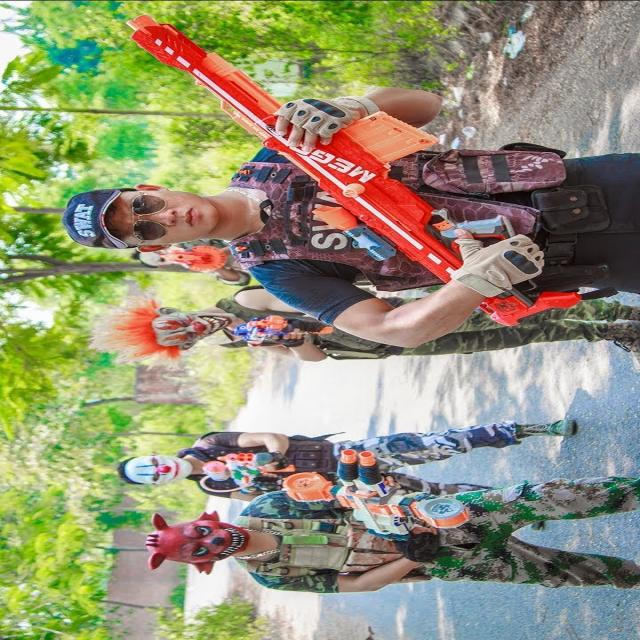Nerf gun: (118, 10, 595, 331), (283, 445, 480, 555), (226, 308, 332, 354), (198, 451, 296, 497), (155, 242, 240, 282)
